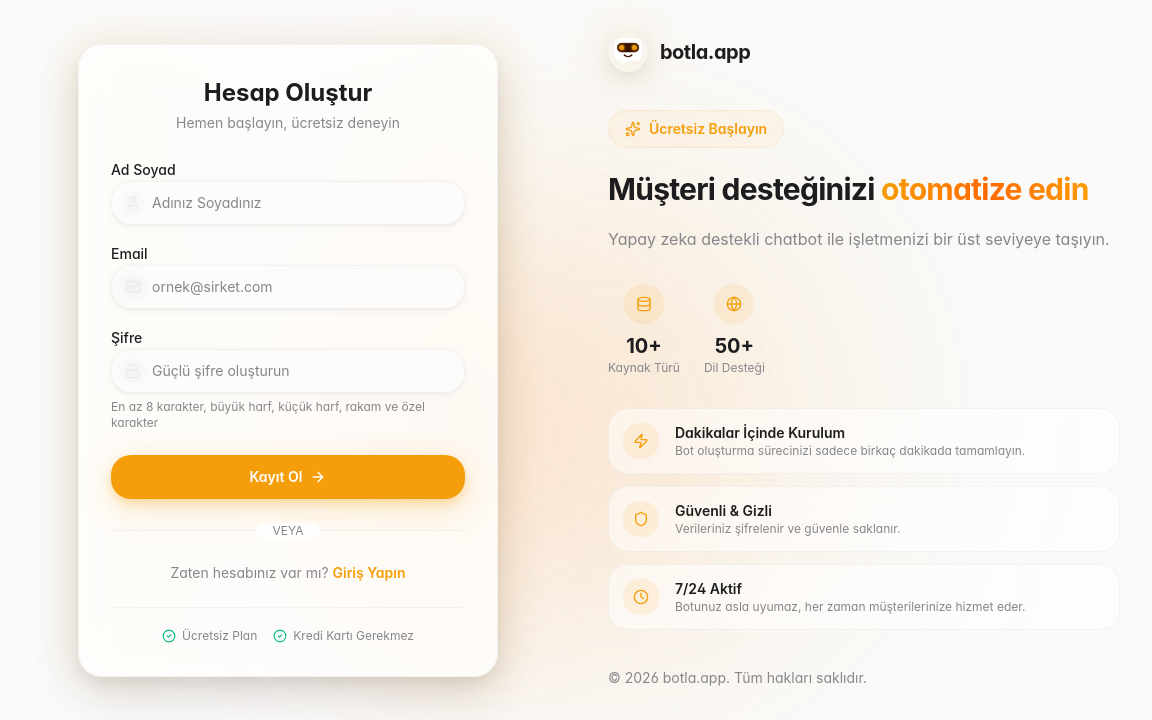
it: RegisterPage › shows translated error message for known error code
This screenshot has width=1152, height=720.
Type "Test" into the field labelled "Ad Soyad" at (288, 202), box [111, 180, 465, 224]
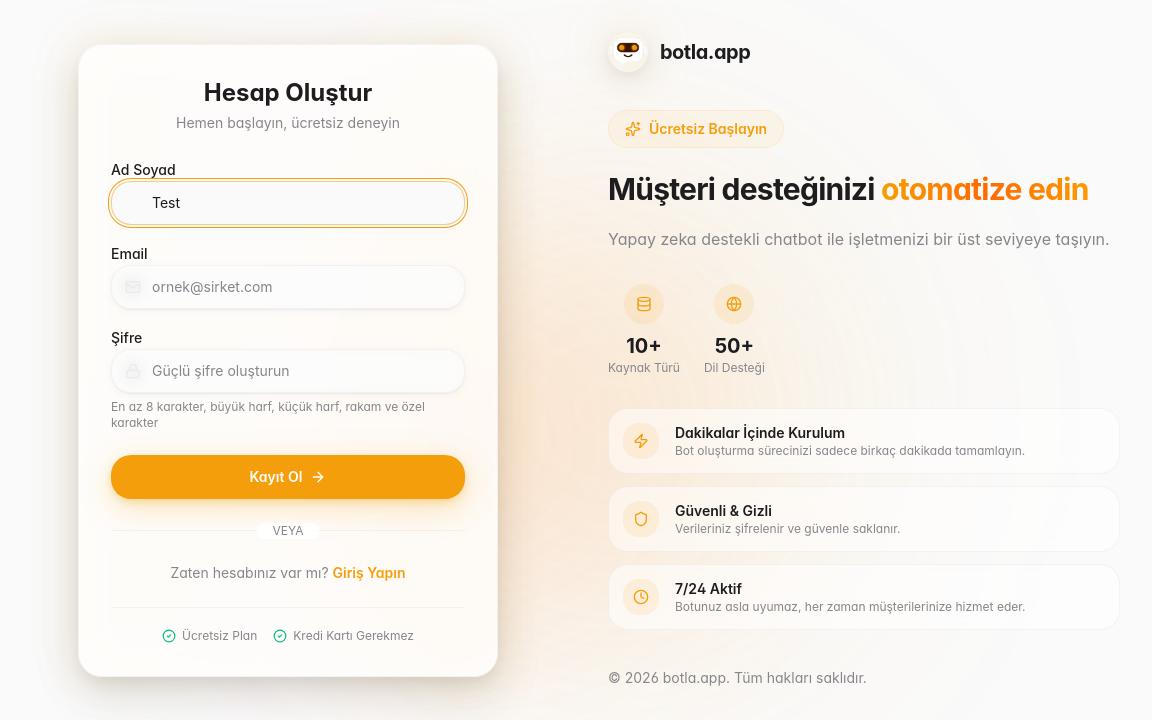
Type "test@example.com" into the field labelled "Email" at (288, 286), box [111, 264, 465, 308]
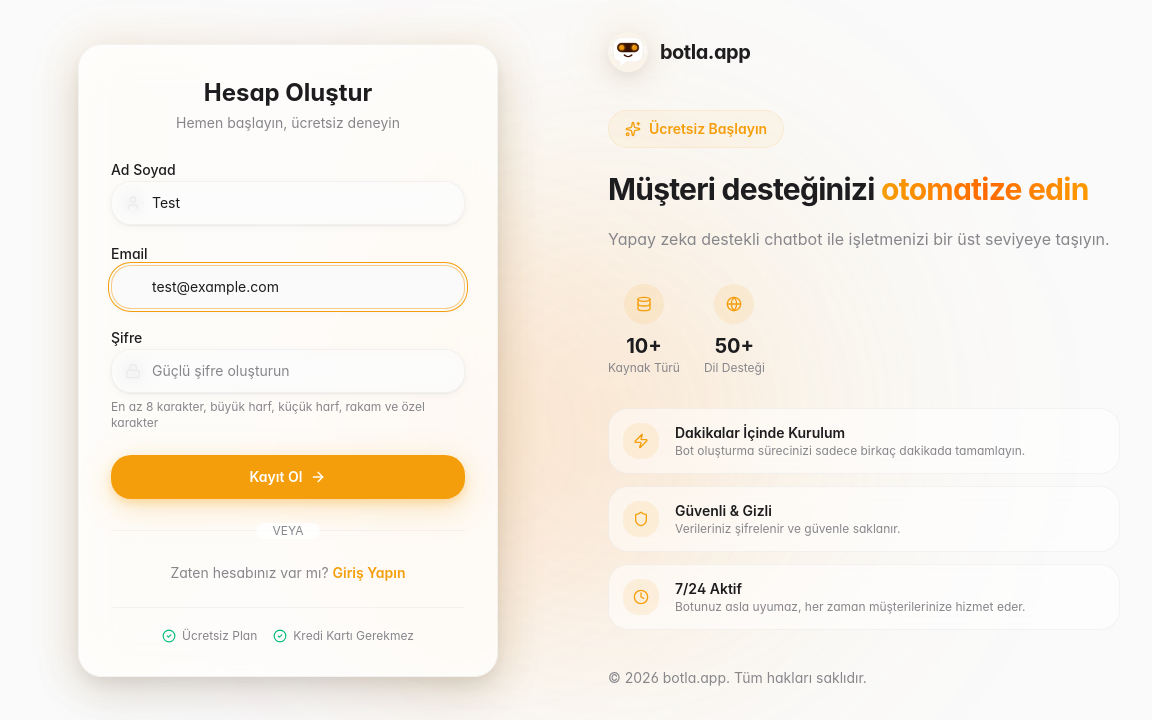
Type "weak" into the password field labelled "Şifre" at (288, 370), box [111, 348, 465, 392]
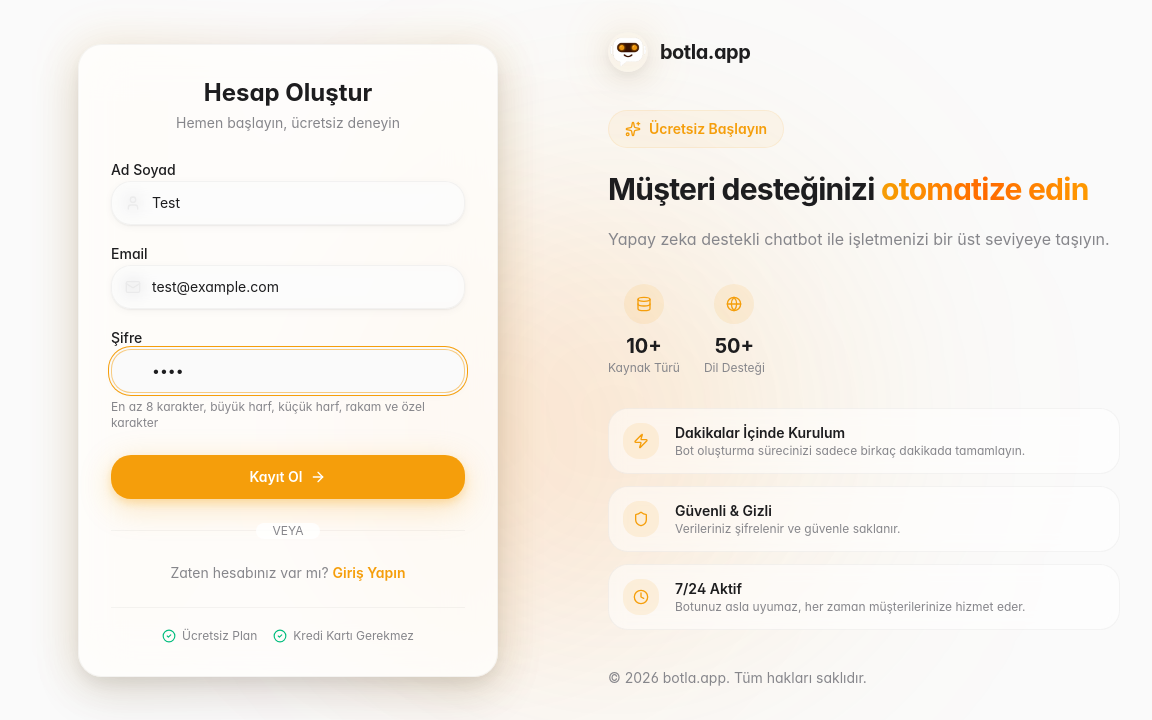
Click the button "Kayıt Ol" at (288, 476), box [111, 454, 465, 498]
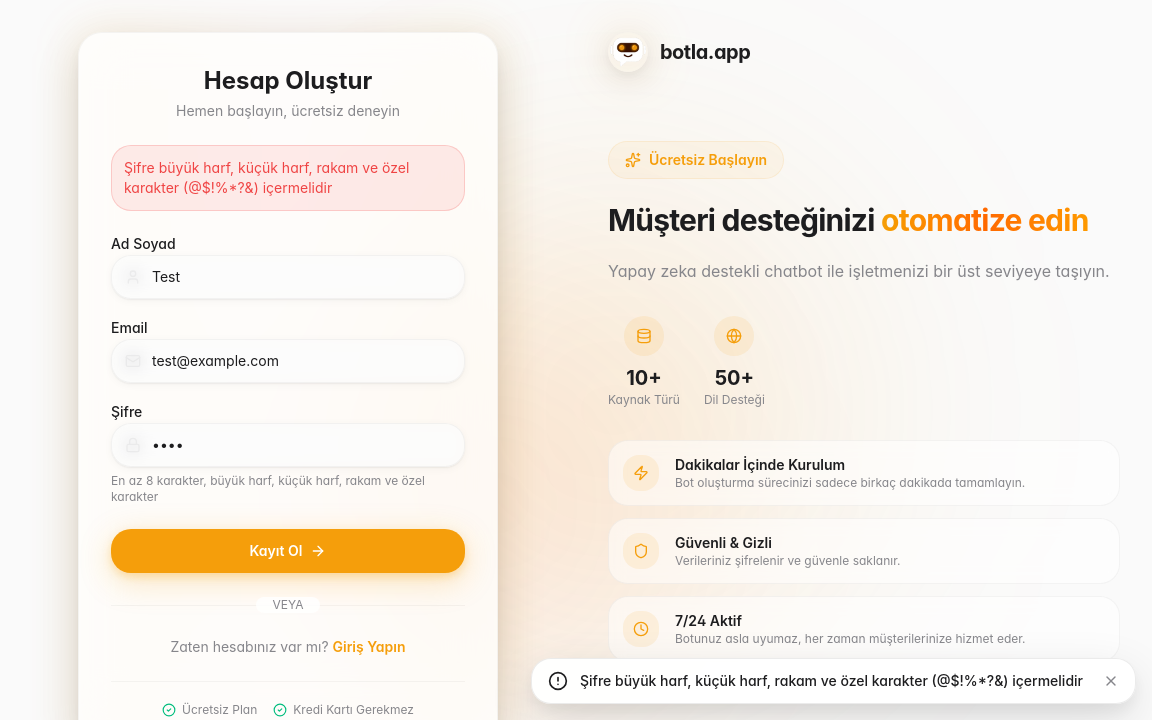
Expected: the message reads "Şifre büyük harf, küçük harf, rakam ve özel karakter (@$!%*?&) içermelidir", [124, 159, 409, 196]
